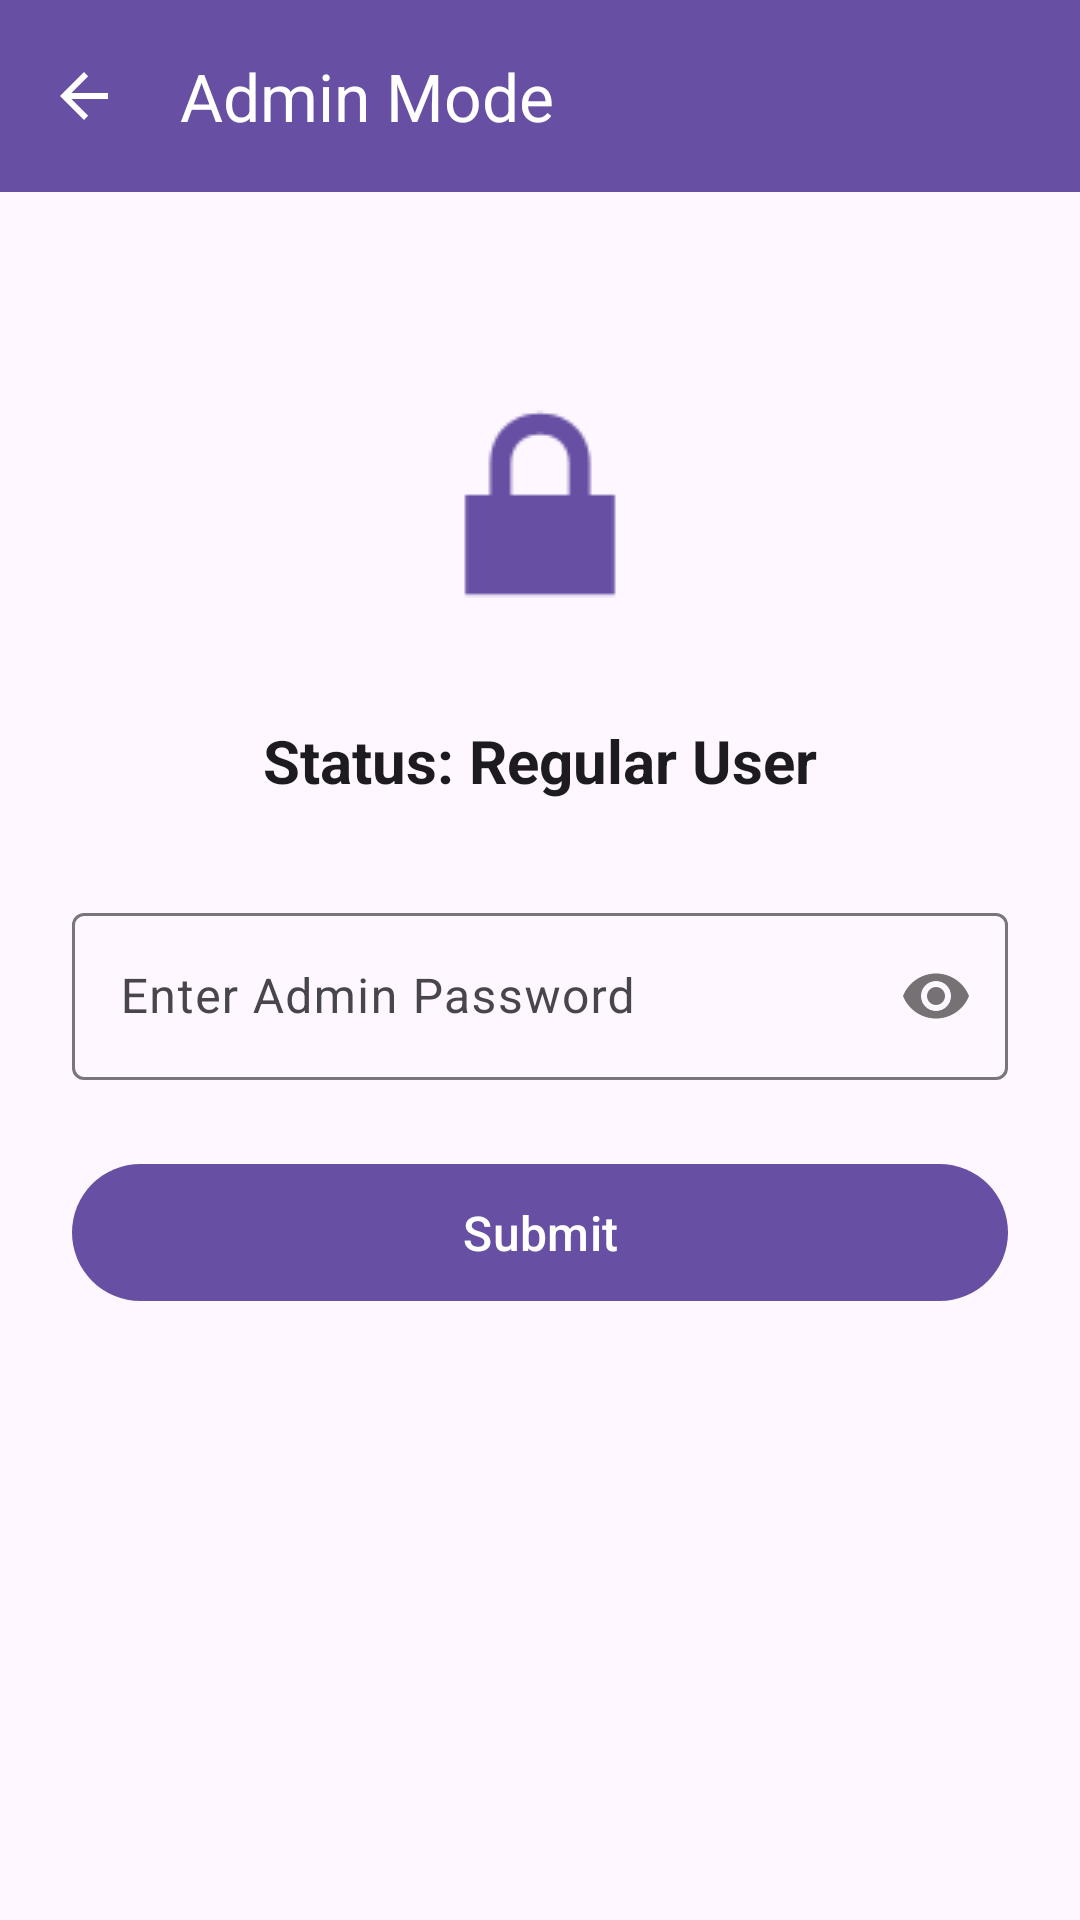

Where icons sit on this 1080×1920 app screen, as (x1, y1, x2, y2):
lock: (464, 412, 616, 596)
